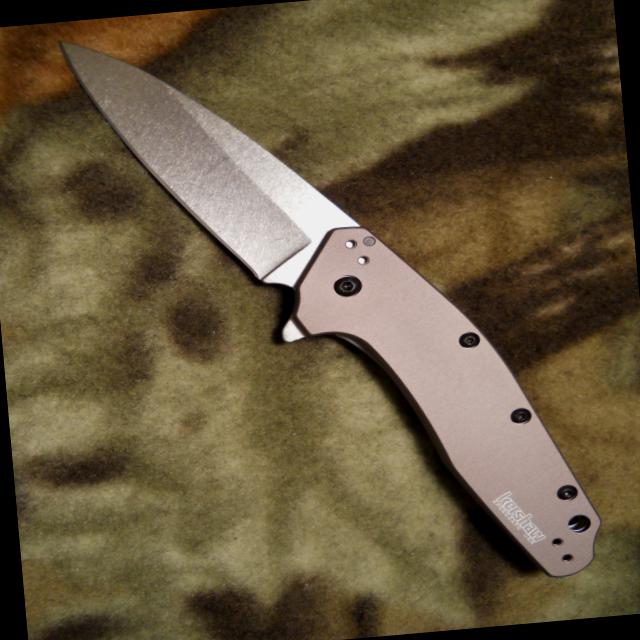knife: (41, 5, 386, 321)
